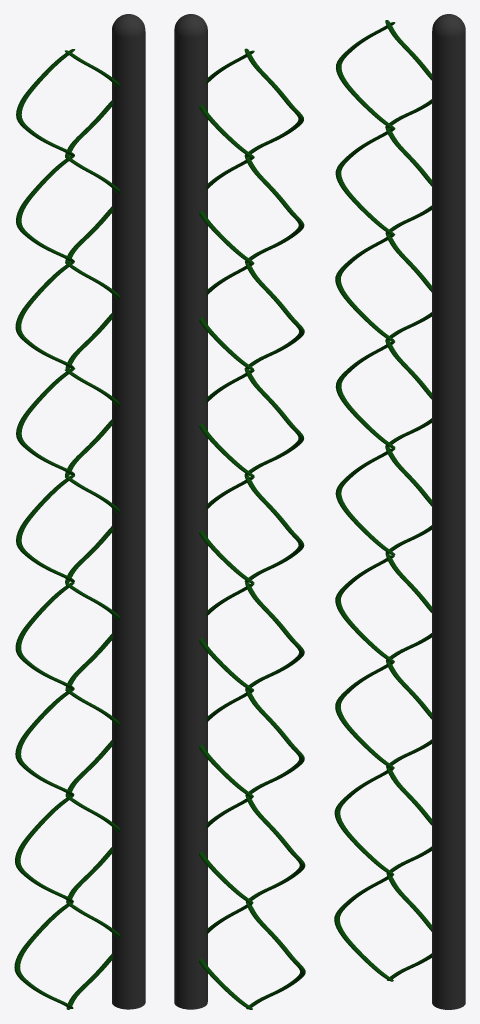
File: fenceGrill.fbx
3 renders of one model, left to right at view 1: azimuth 30°, elevation 25°; view 2: azimuth 150°, elevation 25°; view 3: azimuth 330°, elevation 25°, orthographic.
Parts seen in each view (by area): view 1: pCylinder31, pCylinder28; view 2: pCylinder31, pCylinder28; view 3: pCylinder31, pCylinder28.
Boxes of the visible parts, bbox=[...] form: pCylinder31: bbox=[112, 14, 145, 1009]; pCylinder28: bbox=[14, 49, 120, 1009]; pCylinder31: bbox=[174, 14, 207, 1009]; pCylinder28: bbox=[199, 48, 305, 1009]; pCylinder31: bbox=[432, 14, 465, 1009]; pCylinder28: bbox=[334, 20, 431, 981].
Bounding box in the file's own units: 12.62 × 92.64 × 2.88.
